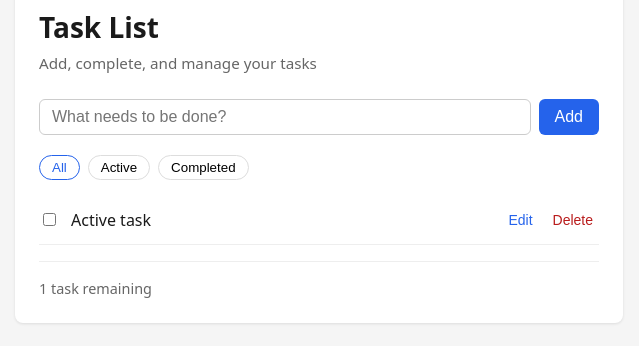
Test: App › toggles, edits, and deletes tasks
Check: the text "Active task" is shown, box [71,209,151,231]
Click the checkbox at (50, 220), box [43,213,56,226]
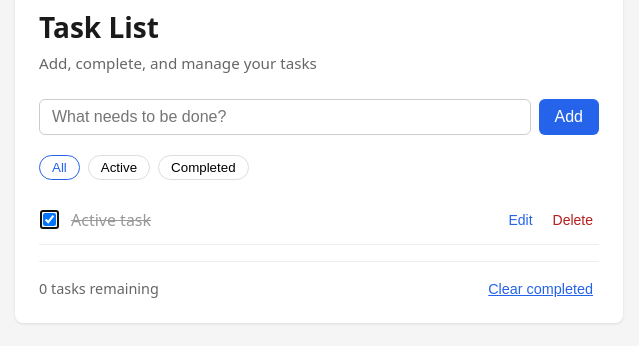
Check: the checkbox is checked, box [43,213,56,226]
Click the button "Edit" at (520, 220), box [502,211,538,229]
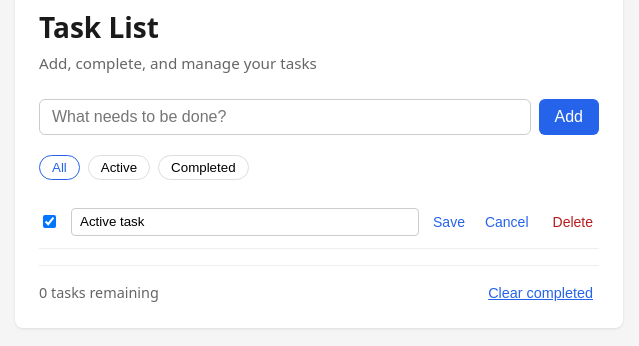
Replace the text in the field named "Edit task title" with "Renamed" at (245, 222), box [71,208,419,236]
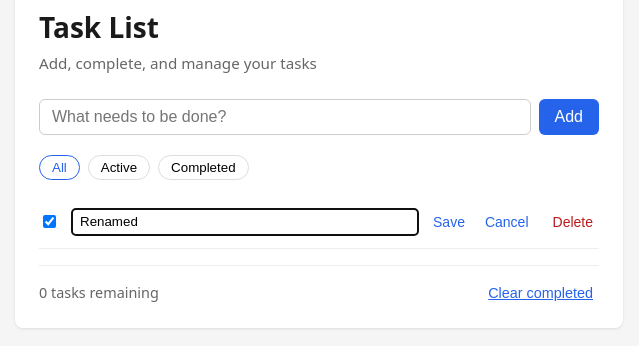
Click the button "Save" at (449, 222), box [427,213,471,231]
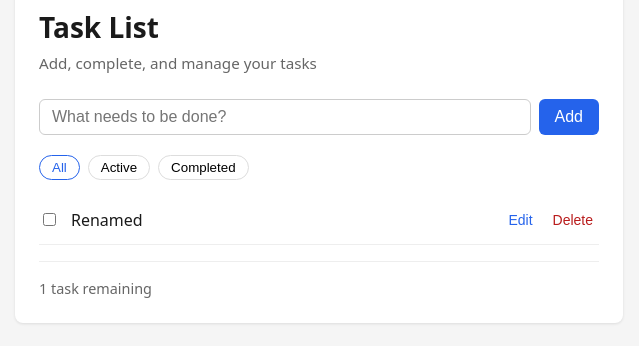
Check: the text "Renamed" is shown, box [71,209,143,231]
Click the button "Delete" at (573, 220), box [546,211,599,229]
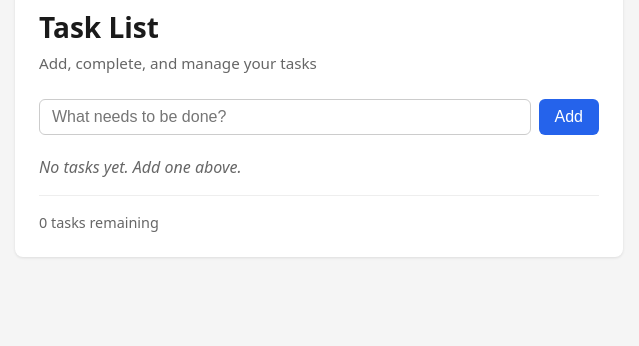
Check: the text "Renamed" is gone
